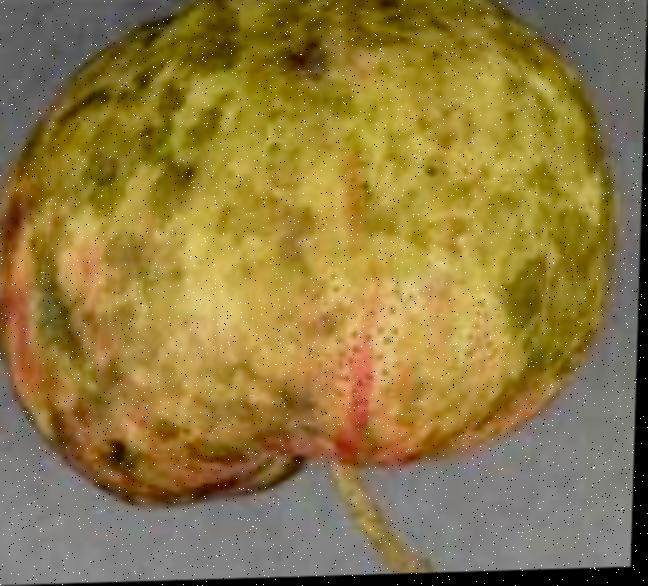BLOTCH: (0, 0, 644, 517)
